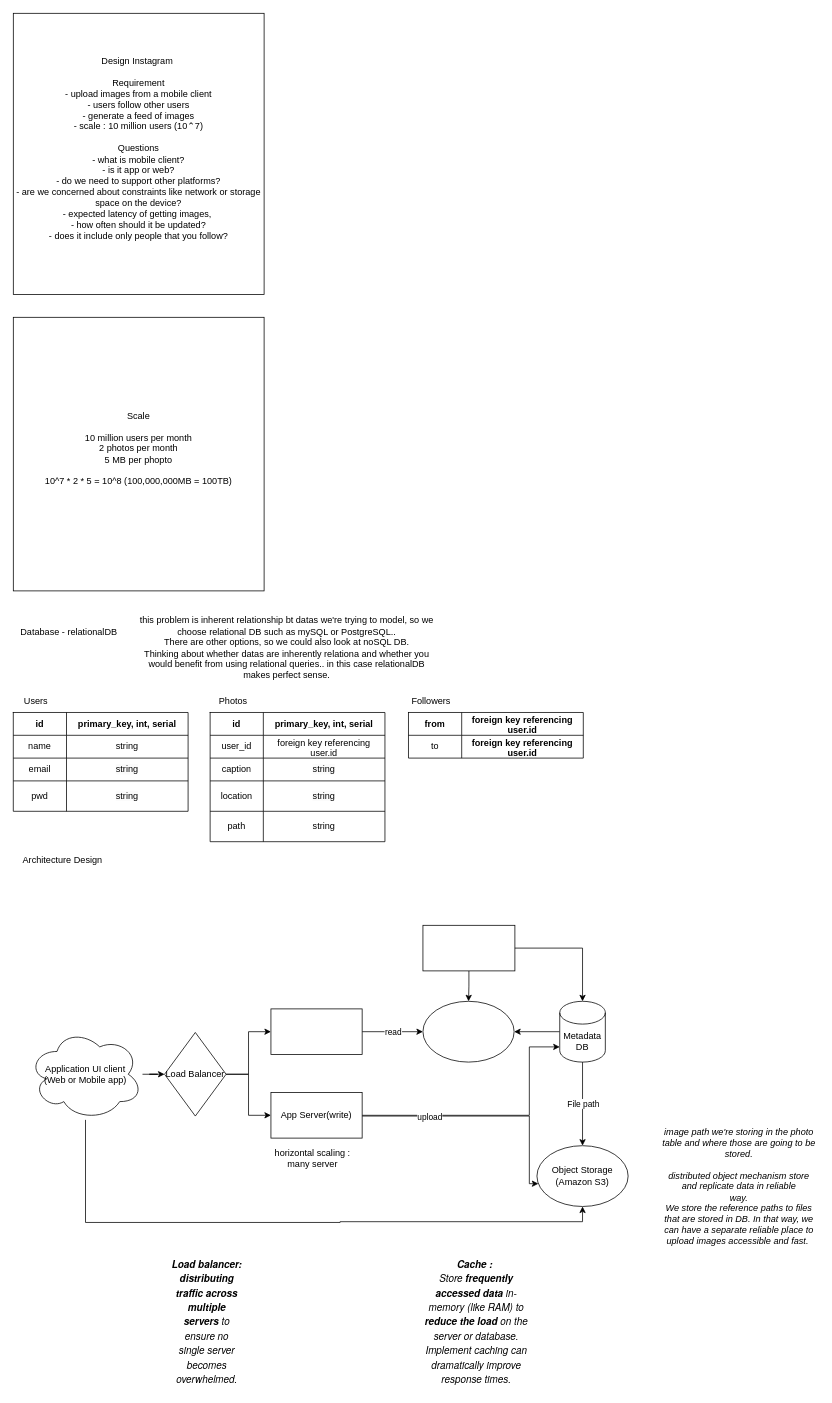
Image size: 832x1403. Some labels were removed from this diagram. The centre of each missing label's shape, as x and y in pixels:
App Server(read): point 316,1031
Cache (Redis): point 468,1031
Feed Generation Service: point 468,948
